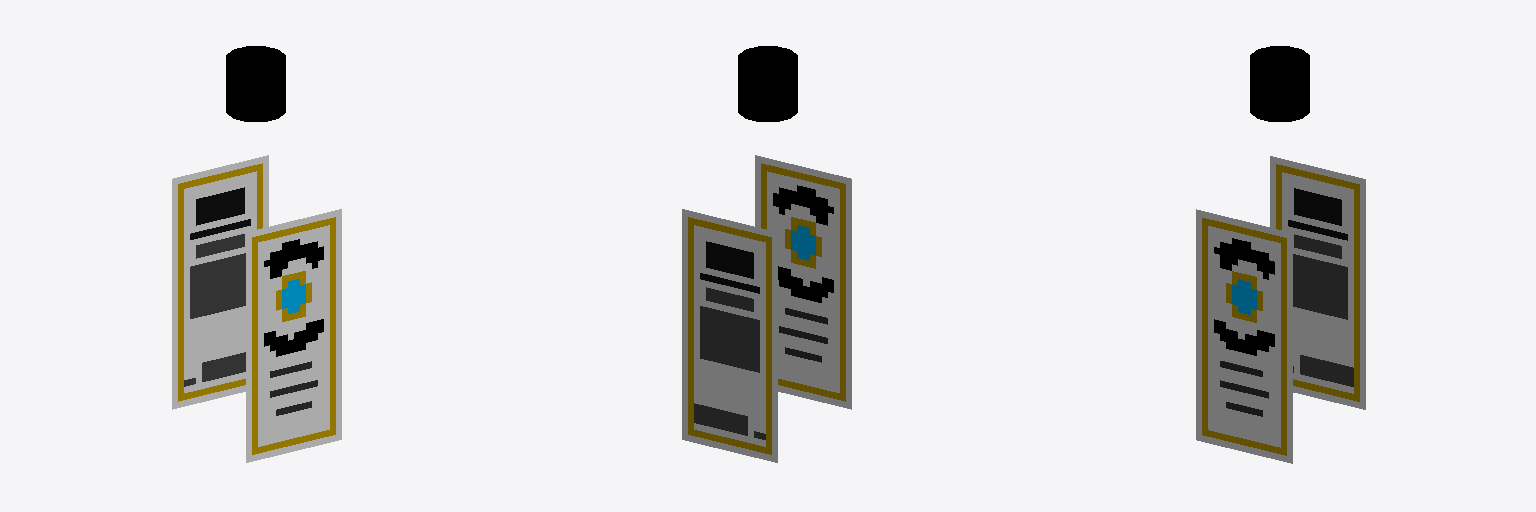
3 views of the same model, side by side, from view 1: azimuth 30°, elevation 25°; view 2: azimuth 150°, elevation 25°; view 3: azimuth 330°, elevation 25° (orthographic).
Visible parts, largest first — view 1: cylinder; view 2: cylinder; view 3: cylinder.
Part boxes in pixels (x1,y1,x2,y2): cylinder: (172,46,341,462); cylinder: (682,46,851,462); cylinder: (1196,46,1365,463).
Bounding box in the file's own units: 0.3125 × 0.9281 × 0.3125.
Materials: 1 (1 with a texture image).